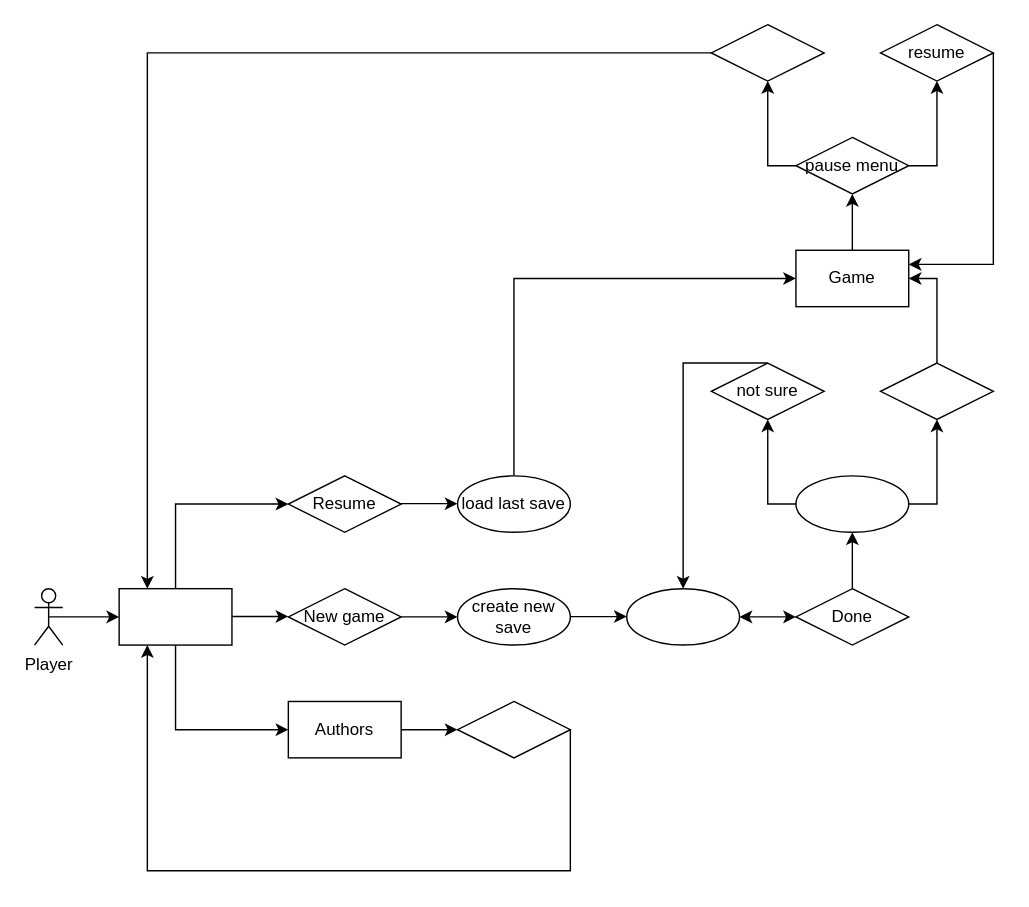
Image size: 1029x907. Some labels were removed from this diagram. Each missing label, with the centre of its shape:
"ask to done" goes at (x=852, y=503).
"Back" goes at (x=513, y=729).
"create new hero" goes at (x=682, y=616).
"exit" goes at (x=767, y=52).
"Main Menu" goes at (x=175, y=616).
"Sure" goes at (x=936, y=390).
